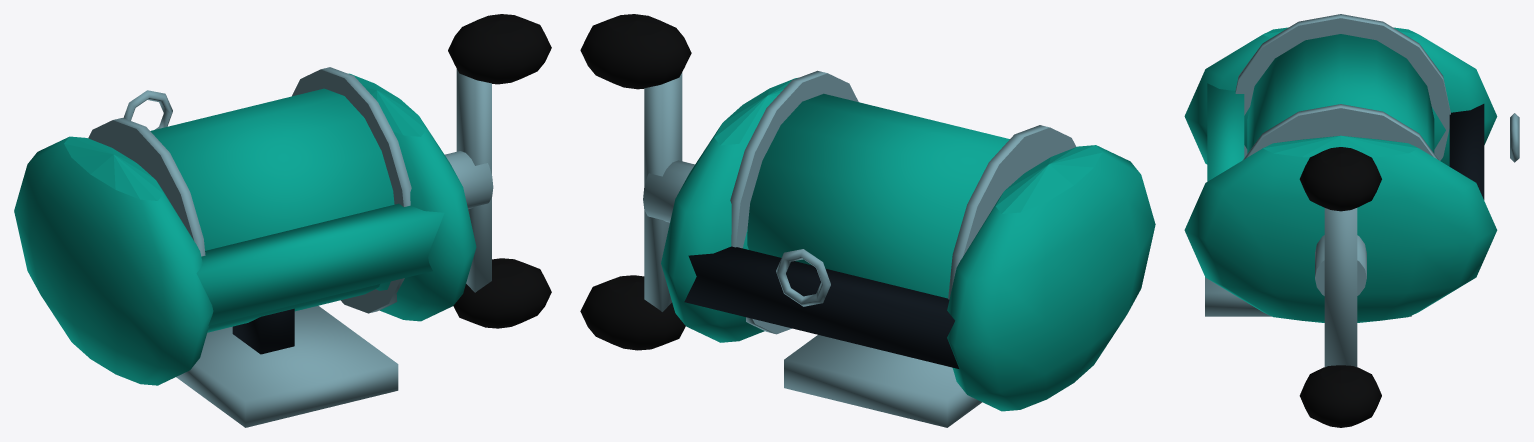
File: basic.glb
The picture shows the model from 3 angles, left to right: view 1: azimuth 30°, elevation 25°; view 2: azimuth 150°, elevation 25°; view 3: azimuth 270°, elevation 25°; orthographic projection. The views are drawn at different scales.
Visible parts, largest first — view 1: Body, Spool, Crank; view 2: Body, Spool, Crank; view 3: Body, Spool, Crank.
Boxes of the visible parts, x1=… form: Body: x1=14, y1=73, x2=476, y2=427; Spool: x1=88, y1=67, x2=411, y2=332; Crank: x1=445, y1=14, x2=551, y2=328; Body: x1=661, y1=78, x2=1155, y2=427; Spool: x1=730, y1=70, x2=1076, y2=334; Crank: x1=580, y1=14, x2=694, y2=350; Body: x1=1184, y1=27, x2=1519, y2=322; Spool: x1=1235, y1=14, x2=1450, y2=160; Crank: x1=1299, y1=147, x2=1381, y2=427.
Bounding box in the file's own units: 2.26 × 1.36 × 1.54.
1 material, 1 textured.
